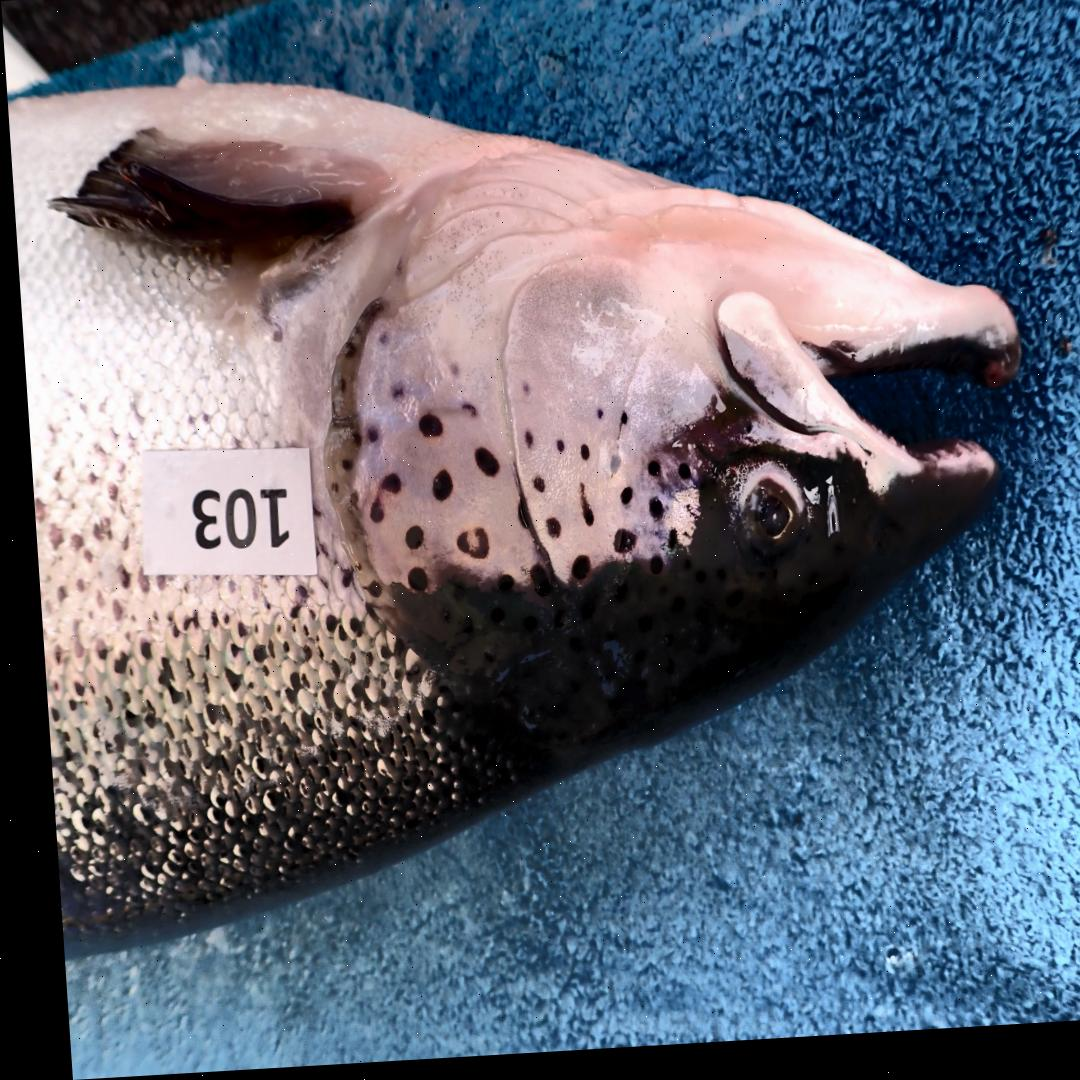spot: (447, 533, 480, 565), (468, 452, 492, 482), (521, 570, 541, 602), (411, 417, 435, 443), (423, 476, 445, 504), (604, 535, 627, 561), (571, 489, 585, 531), (398, 570, 420, 596), (372, 477, 394, 498), (396, 531, 416, 554), (372, 478, 394, 498), (361, 500, 376, 527), (563, 562, 580, 585), (640, 503, 655, 527), (537, 523, 552, 544), (641, 562, 654, 582), (489, 579, 505, 595), (612, 493, 625, 512), (359, 428, 372, 447), (509, 508, 518, 534), (670, 470, 683, 487), (659, 535, 669, 557), (341, 495, 352, 515), (640, 467, 653, 483), (454, 409, 470, 422), (525, 481, 537, 498), (339, 344, 351, 361), (602, 462, 613, 480), (372, 336, 384, 350), (517, 436, 526, 454), (443, 368, 454, 382), (573, 451, 582, 467), (334, 462, 346, 474), (344, 437, 354, 450), (549, 445, 557, 459), (612, 418, 620, 432), (386, 392, 396, 402), (516, 390, 523, 401), (589, 415, 596, 425)
